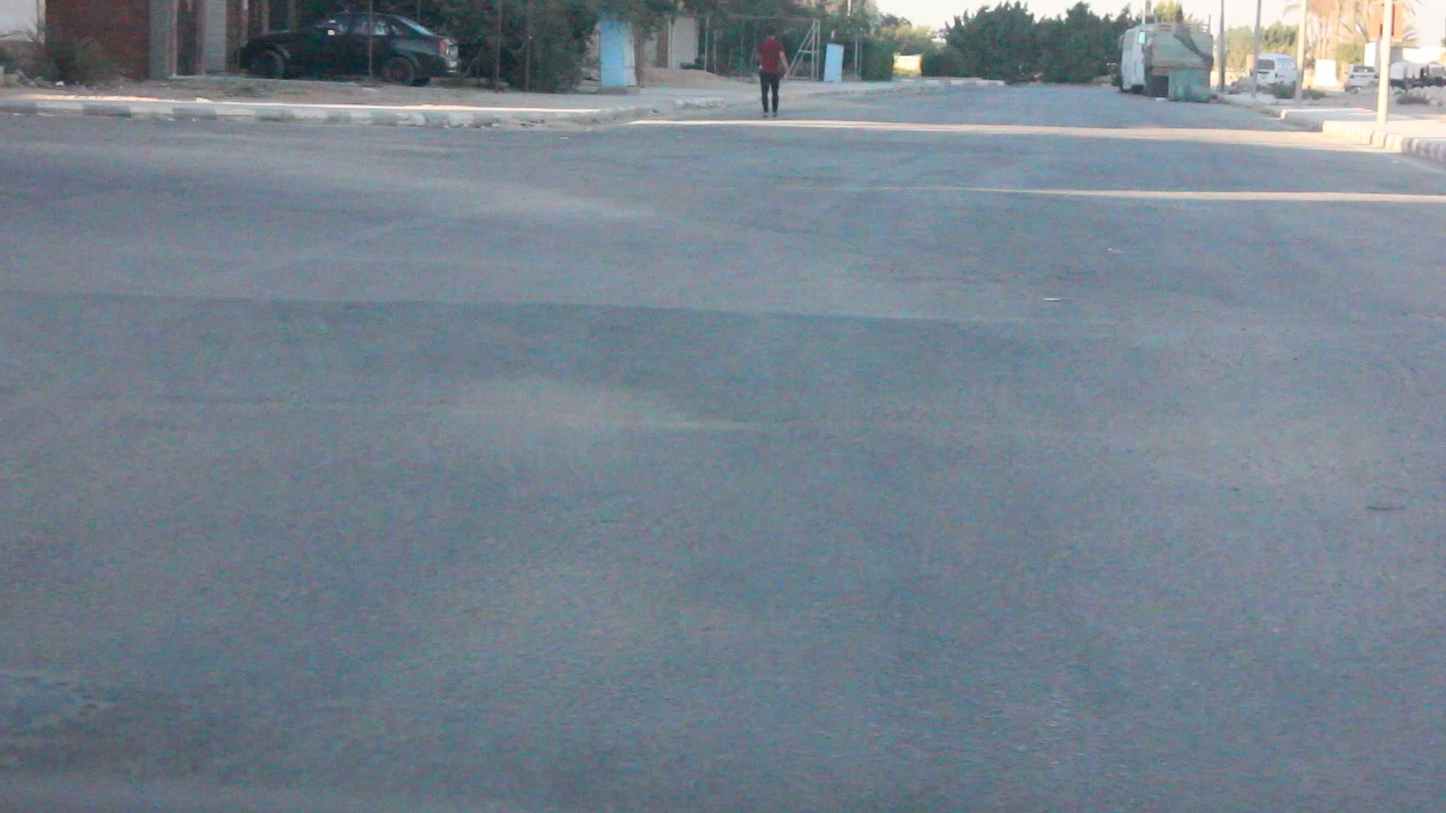Bump: (0, 280, 1445, 424)
